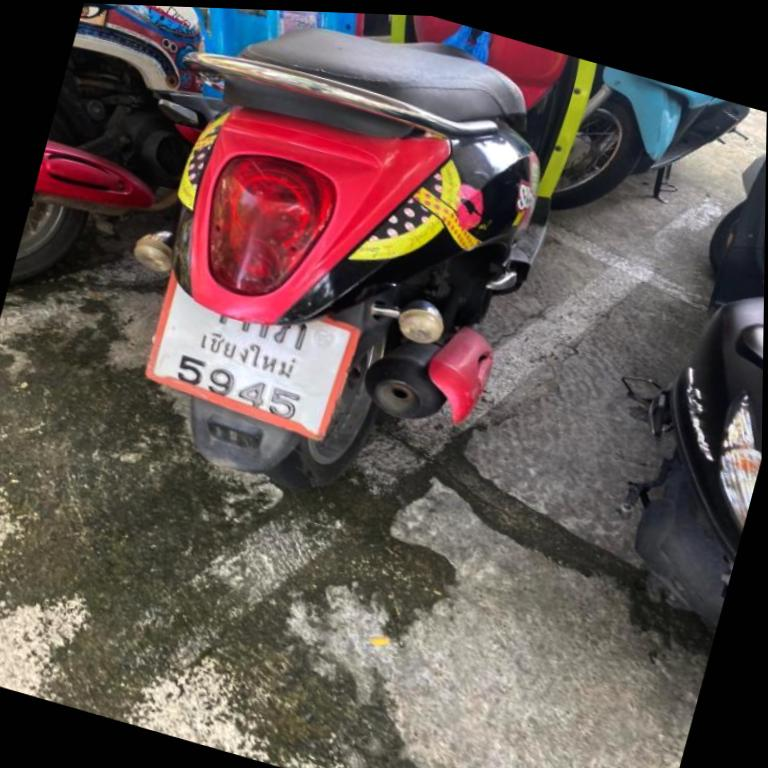license plate: (149, 279, 358, 437)
